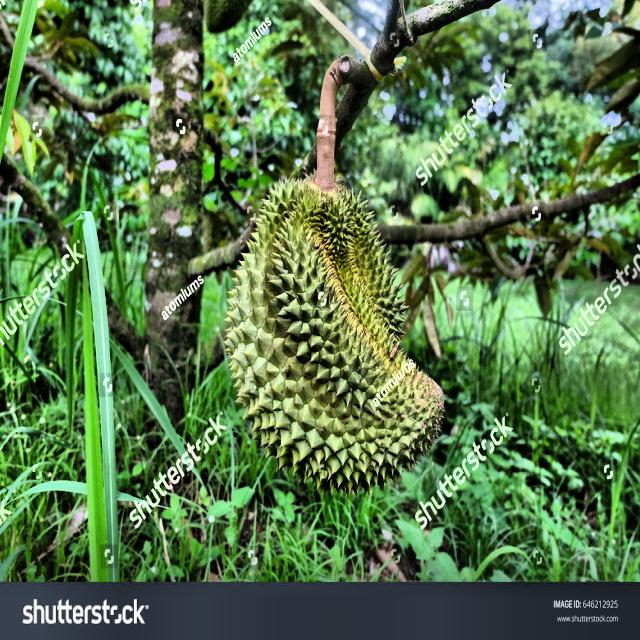arvore: (139, 0, 206, 452)
